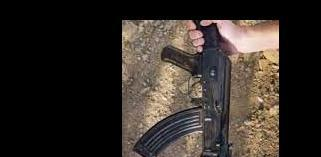larga: (133, 20, 234, 157)
